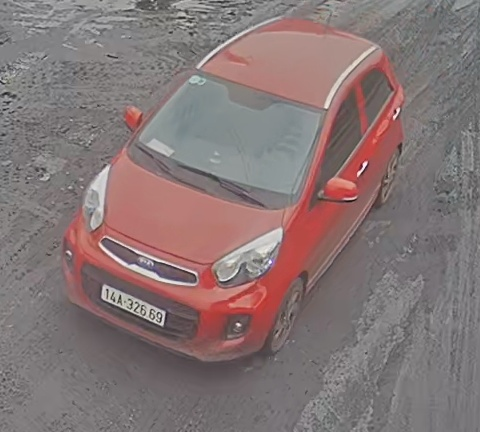vehicle plate: (100, 281, 168, 332)
